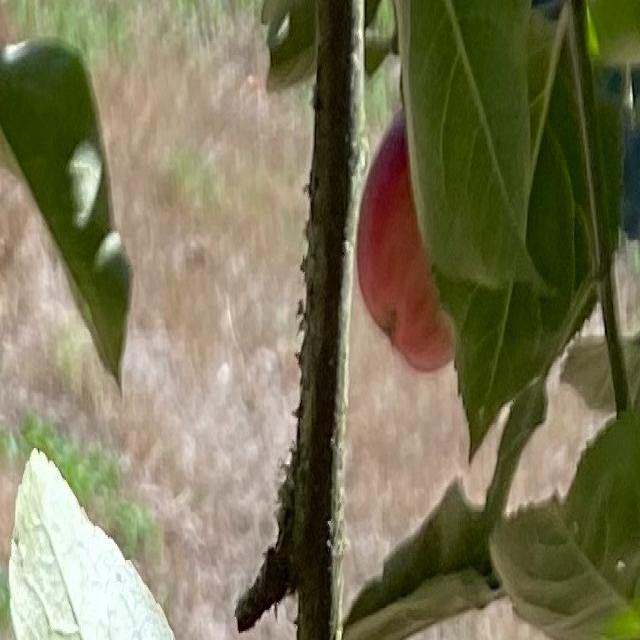Apples: (357, 110, 459, 374)
